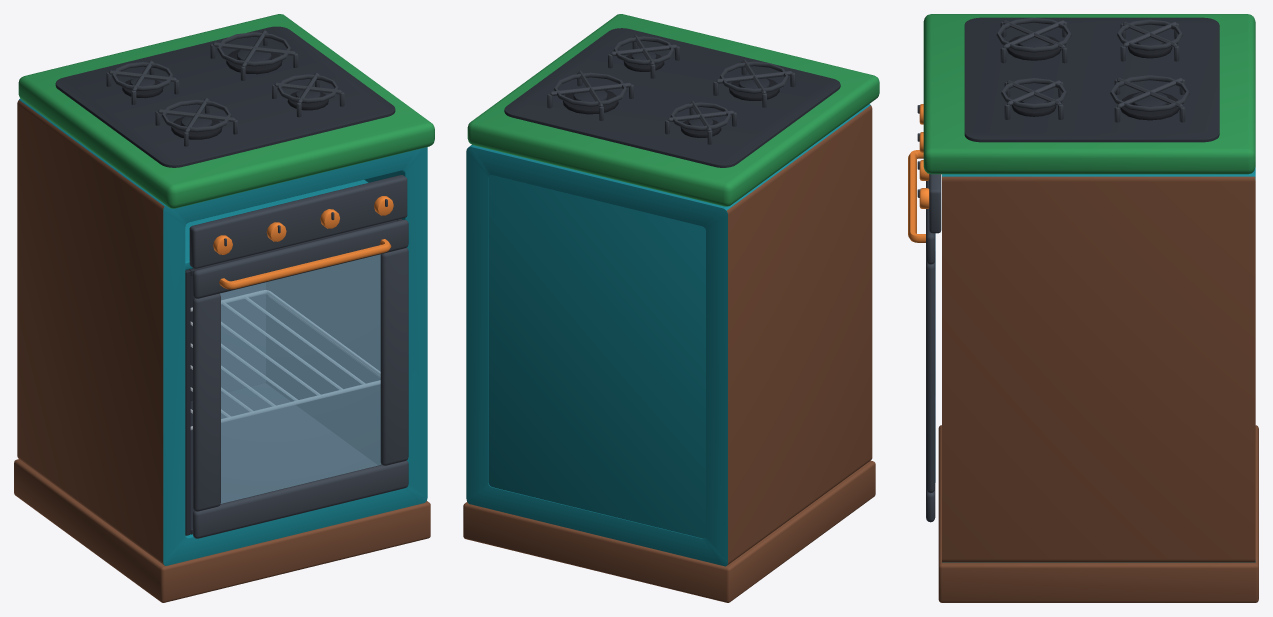
File: fogao_modulo_colonial_mata.glb
The picture shows the model from 3 angles, left to right: view 1: azimuth 30°, elevation 25°; view 2: azimuth 150°, elevation 25°; view 3: azimuth 270°, elevation 25°; orthographic projection. The views are drawn at different scales.
Parts seen in each view (by area): view 1: fogao_modulo_colonial_mata, porta_forno; view 2: fogao_modulo_colonial_mata; view 3: fogao_modulo_colonial_mata, porta_forno.
Boxes of the visible parts, x1,y1,x2,y2 form: fogao_modulo_colonial_mata: [14, 14, 434, 602]; porta_forno: [193, 219, 408, 538]; fogao_modulo_colonial_mata: [463, 14, 879, 602]; fogao_modulo_colonial_mata: [917, 14, 1258, 602]; porta_forno: [908, 150, 935, 522].
Bounding box in the file's own units: 0.604 × 0.939 × 0.633.
2 materials, 1 textured.
